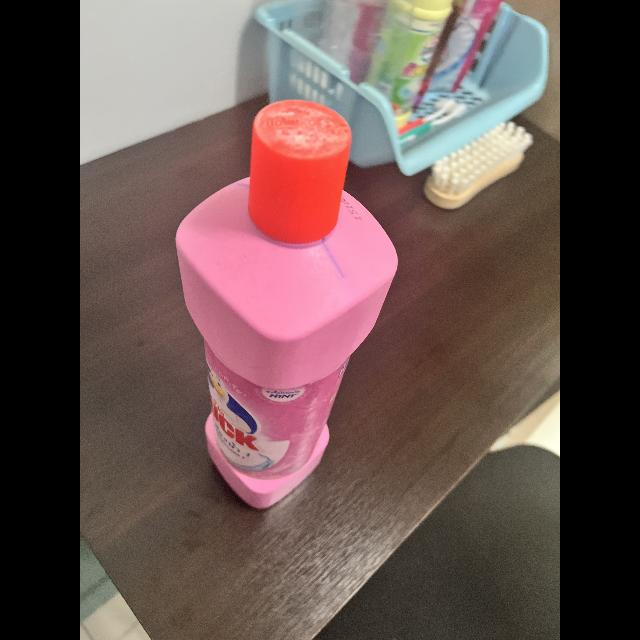chemical_plastic_bottle: (195, 97, 402, 503)
